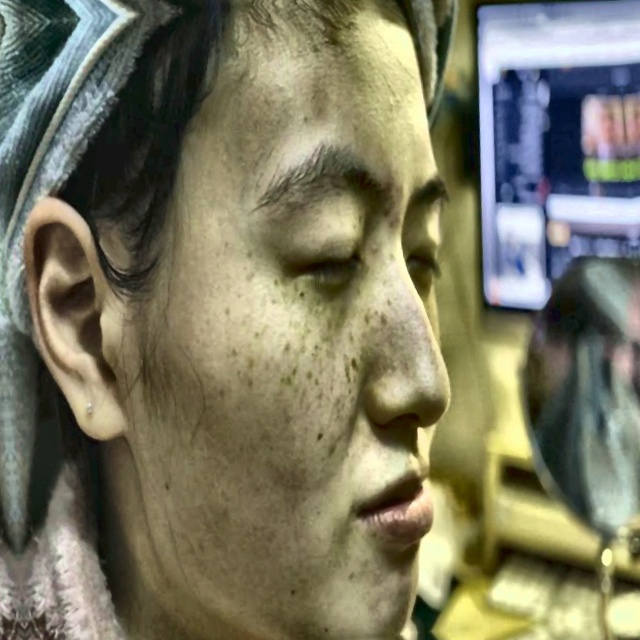comedone: (378, 197, 410, 237), (380, 167, 400, 196)
